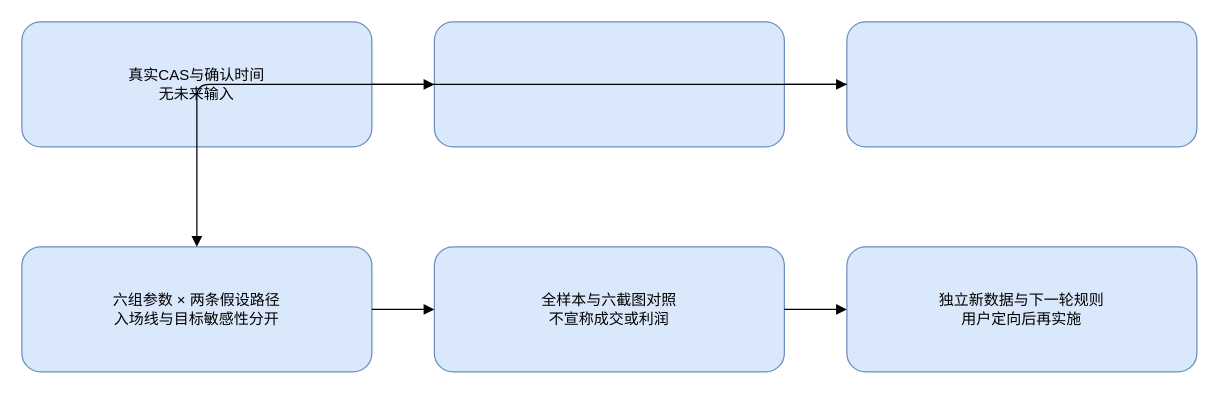
Some shapes in this 1219 by 394 pixel diagram are drawn without their labels. The shapes that lost their labels are listed below. From the top down, each one's box as (x1, y1, x2, y2) in pixels, then its label:
(433, 21, 784, 147): A原20/32 B已确认拐点 / C失败突破
(846, 21, 1197, 147): 统一锚点身份 原生命周期不变
